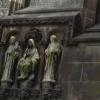Statue: (3, 23, 71, 97)
